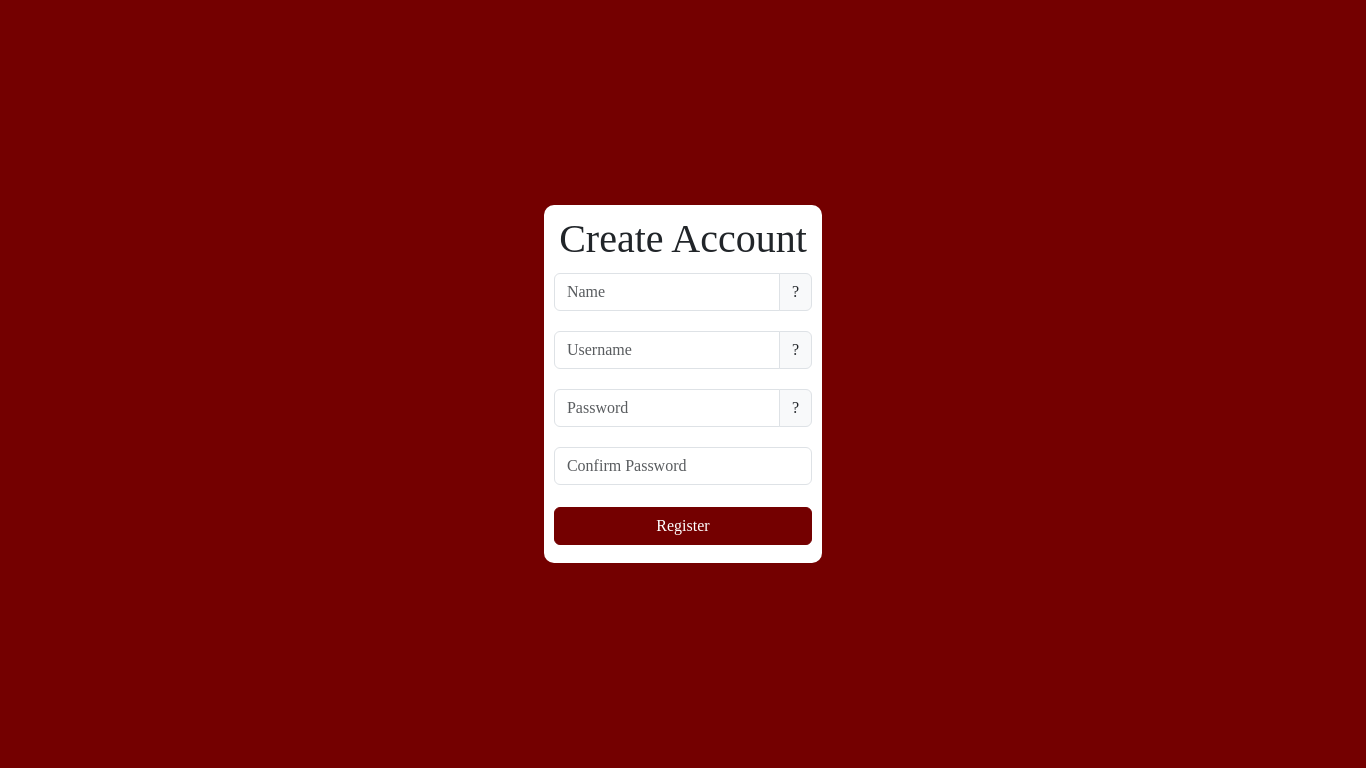
Test: Register Blocked - Nothing Entered
The image size is (1366, 768).
Click the button "Register".
click(683, 526)  # box [554,507,812,545]
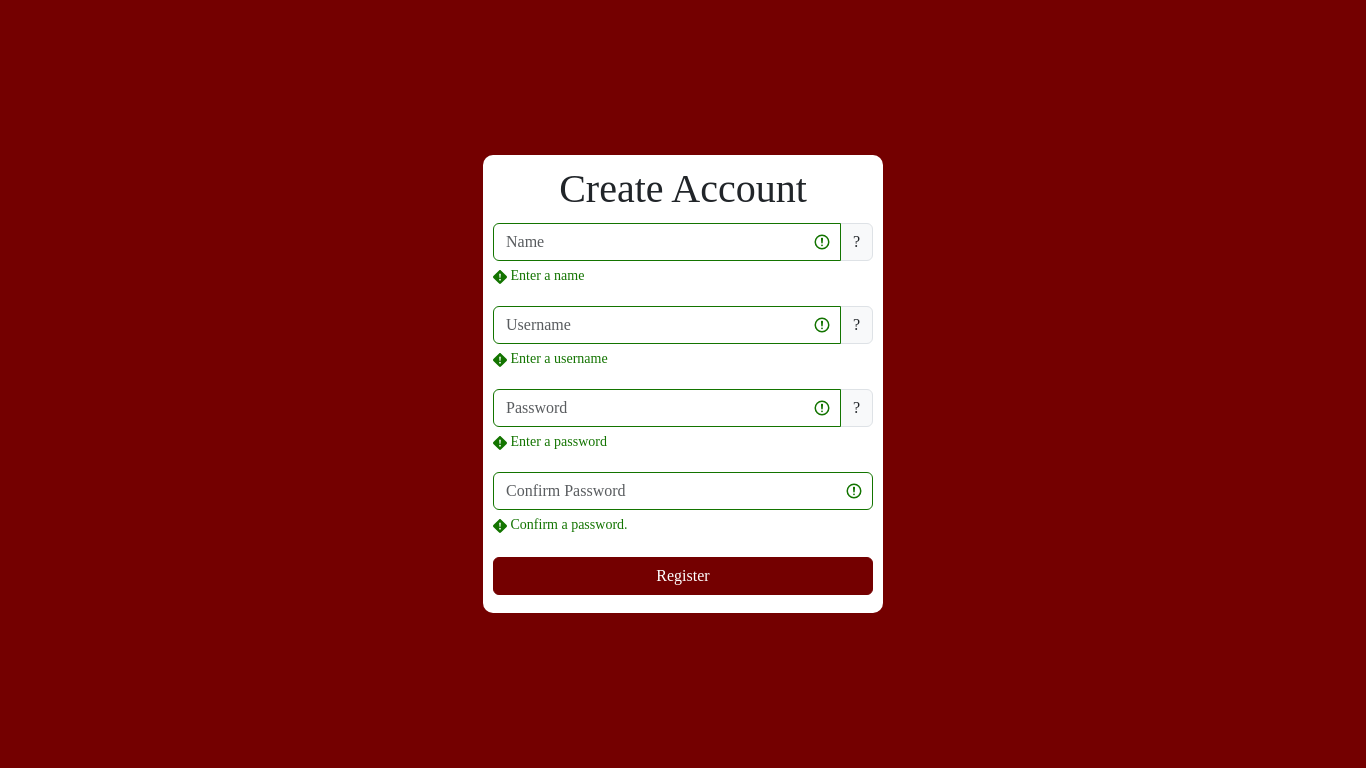
Expected: the text "Enter a username" is shown, [493,351,608,367]
